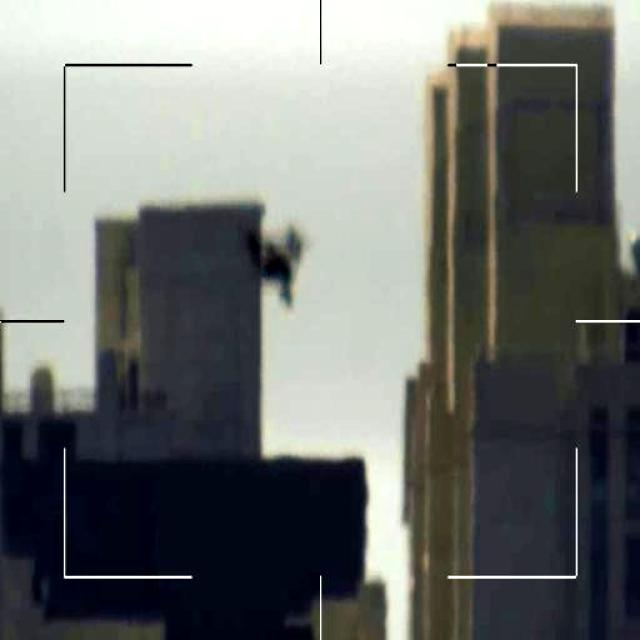bird: (248, 224, 304, 301)
